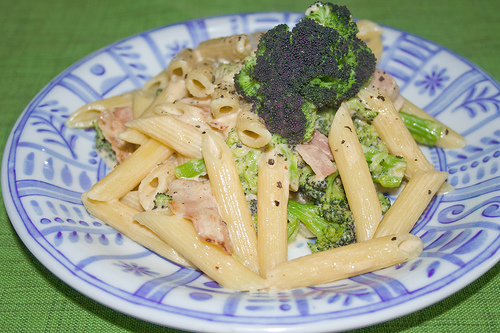broccoli: (232, 0, 378, 147)
